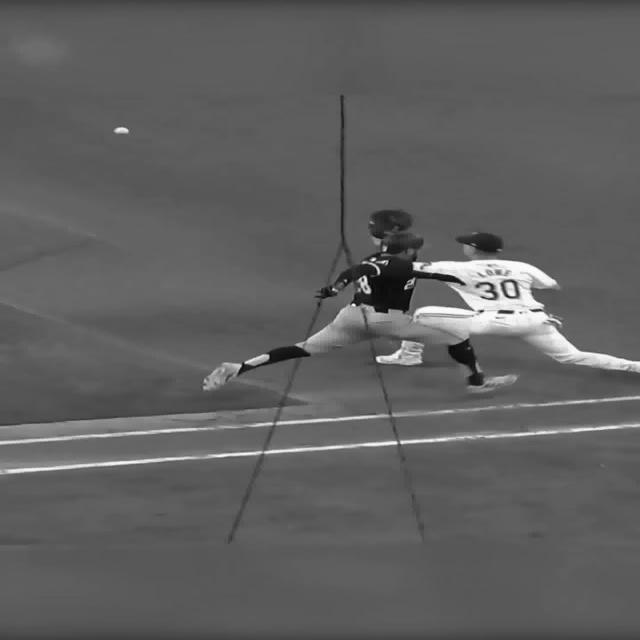baseball: (113, 126, 129, 134)
shoe: (200, 362, 242, 392), (465, 374, 519, 394), (374, 349, 422, 366)
